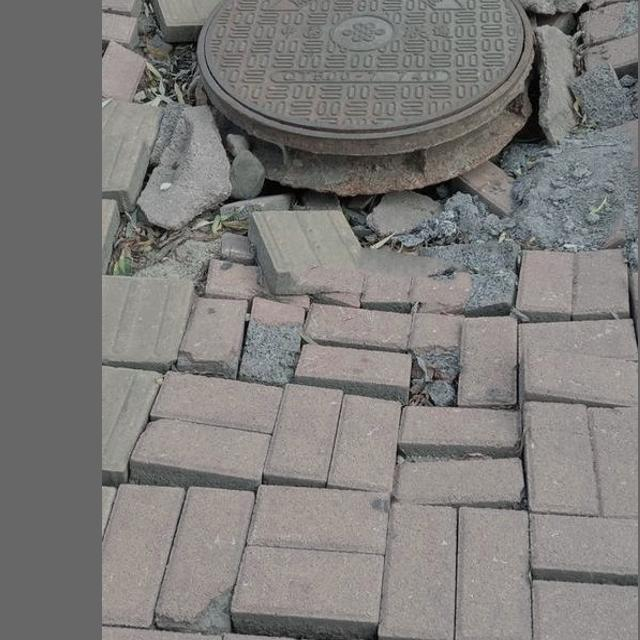circle: (113, 0, 631, 421)
